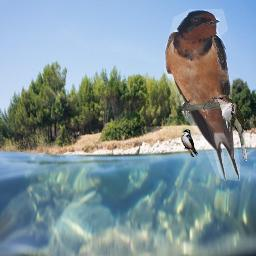Cuckoo: (211, 94, 247, 162)
Swallow: (164, 9, 240, 181), (181, 129, 198, 157)
